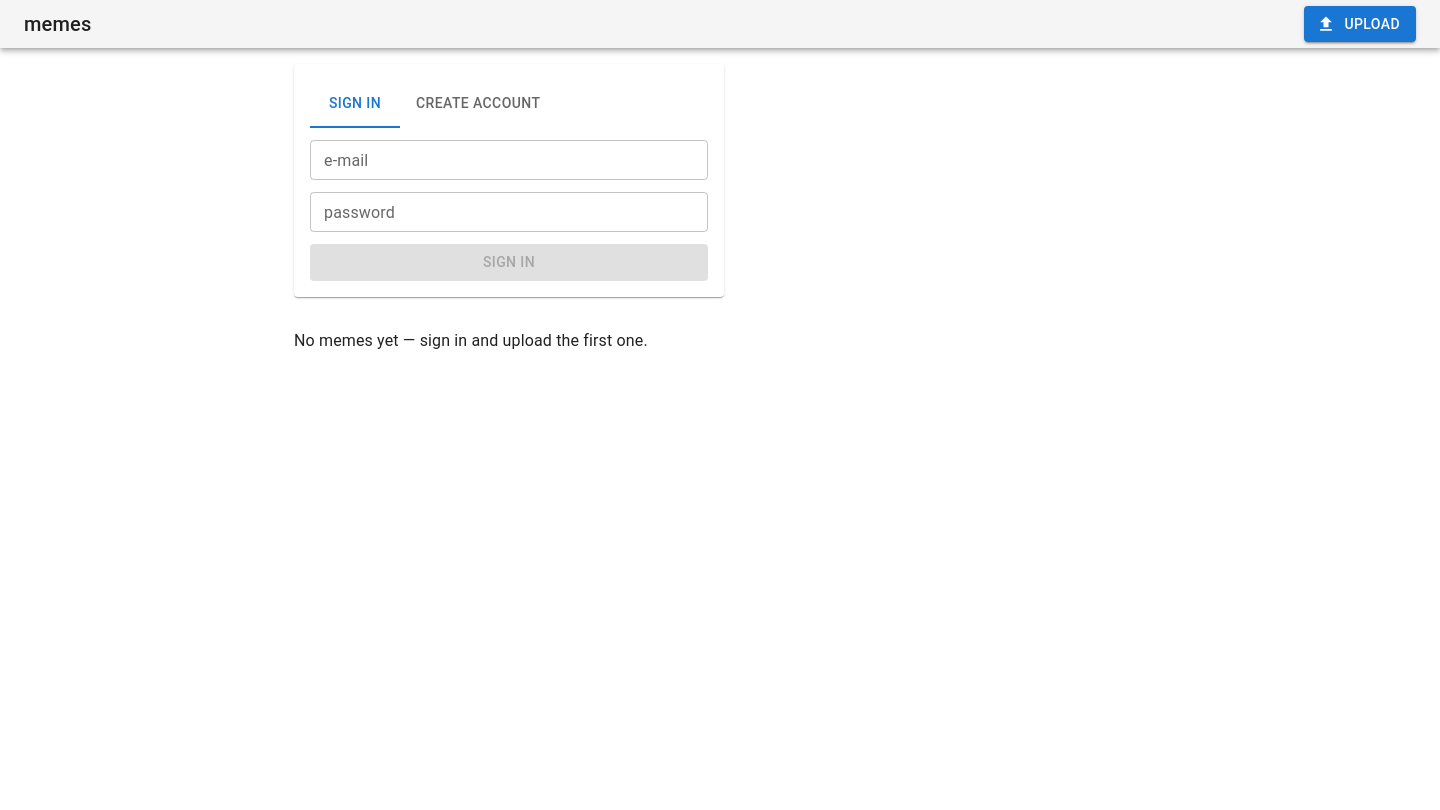
Scenario: the sign-in panel in front of a broken security service › does not blame the password for a fault that is not the caller’s
The image size is (1440, 810).
Type "ala@example.com" into the field labelled "e-mail" at (509, 160), box [310, 140, 708, 180]
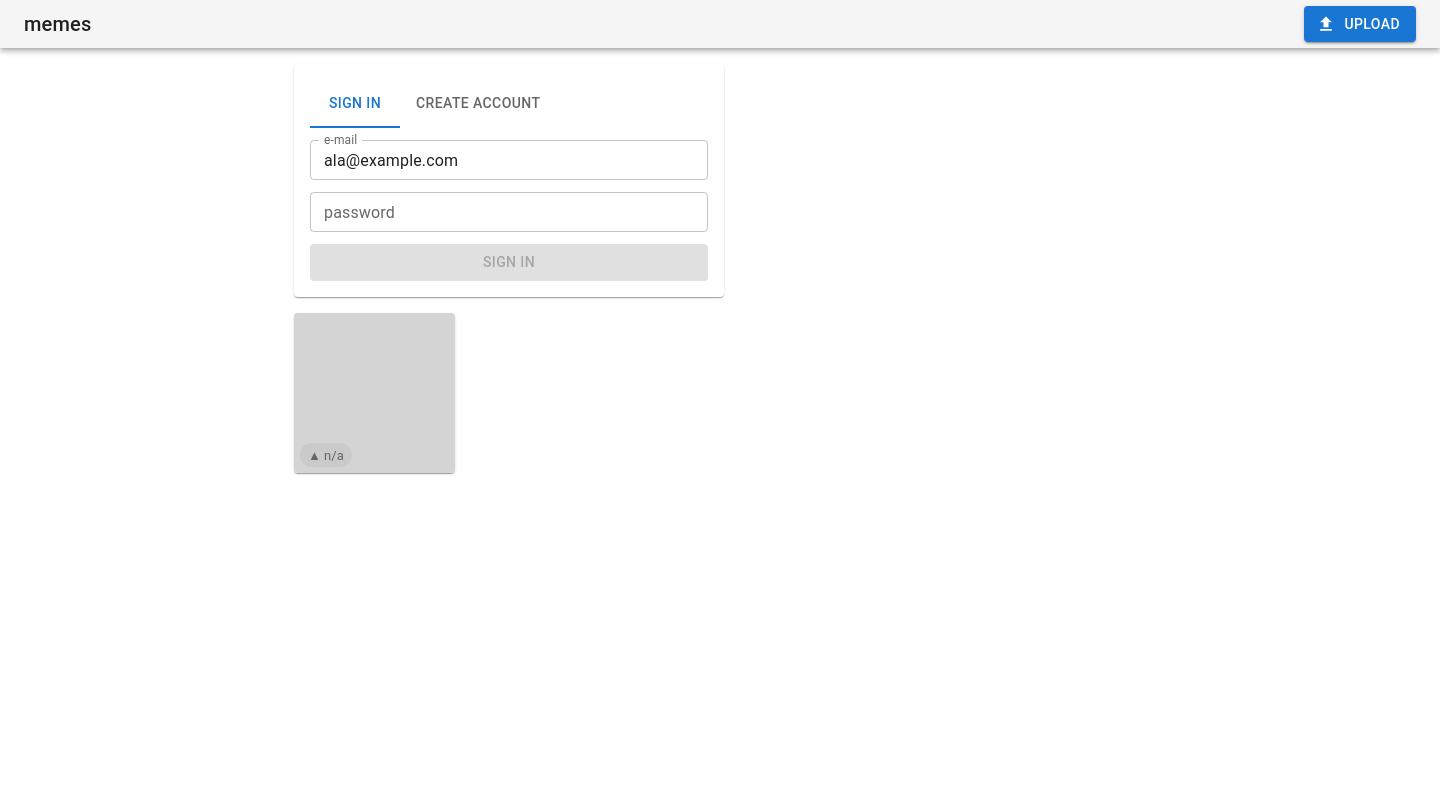
Type "Correct-Horse-9" into the password field labelled "password" at (509, 212), box [310, 192, 708, 232]
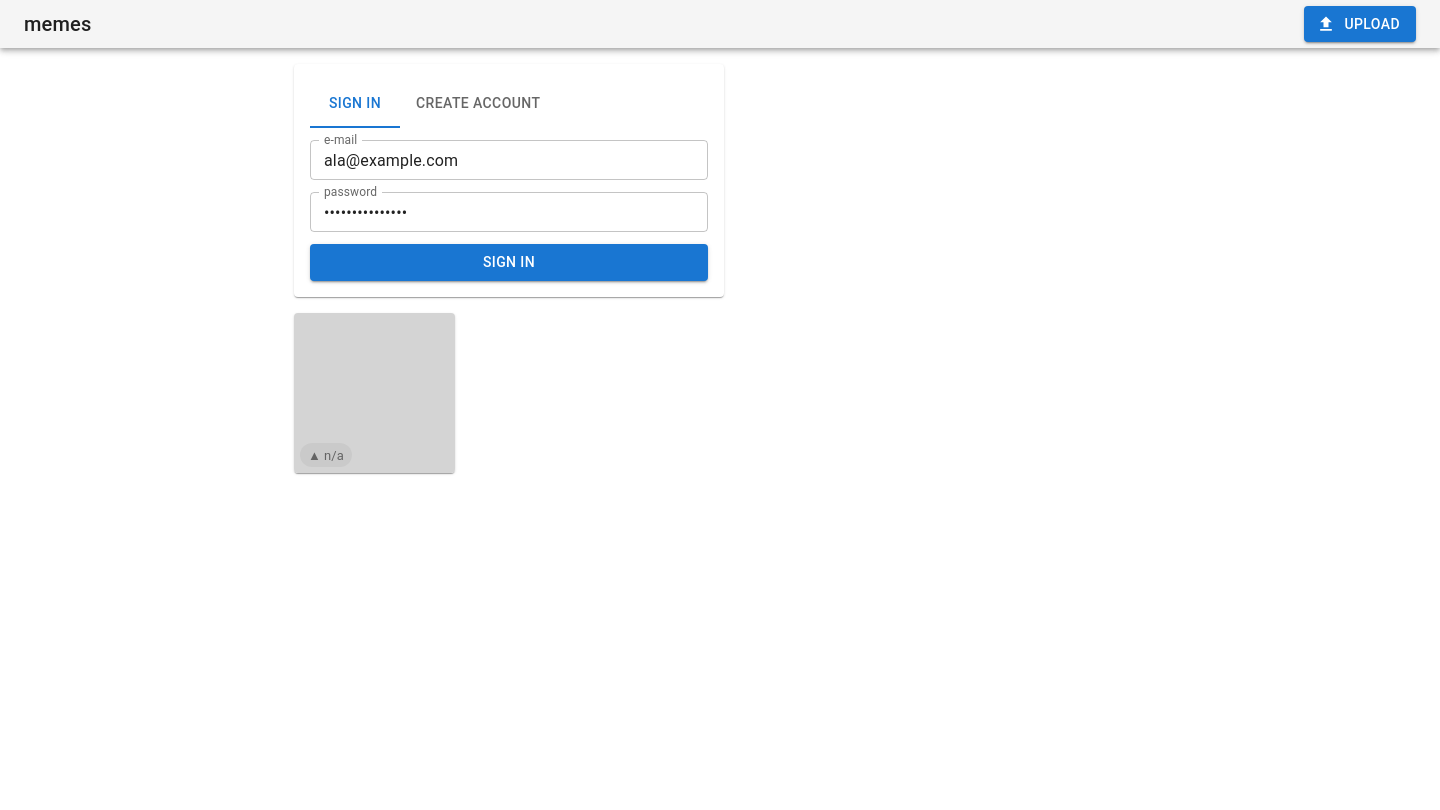
Click the button "Sign in" at (509, 262), box [310, 244, 708, 280]
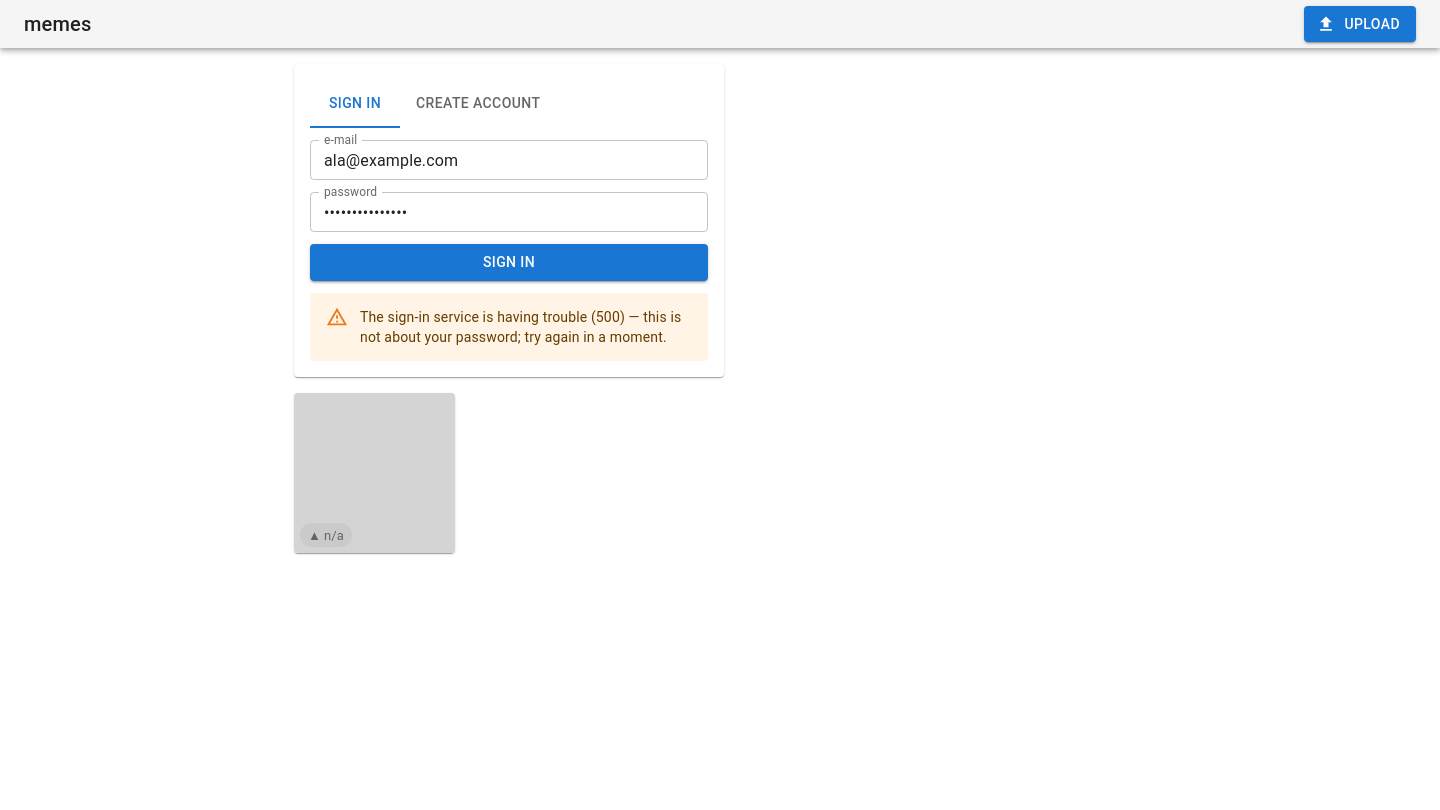
expect the text "not about your password" is shown: met, box [360, 308, 681, 344]
